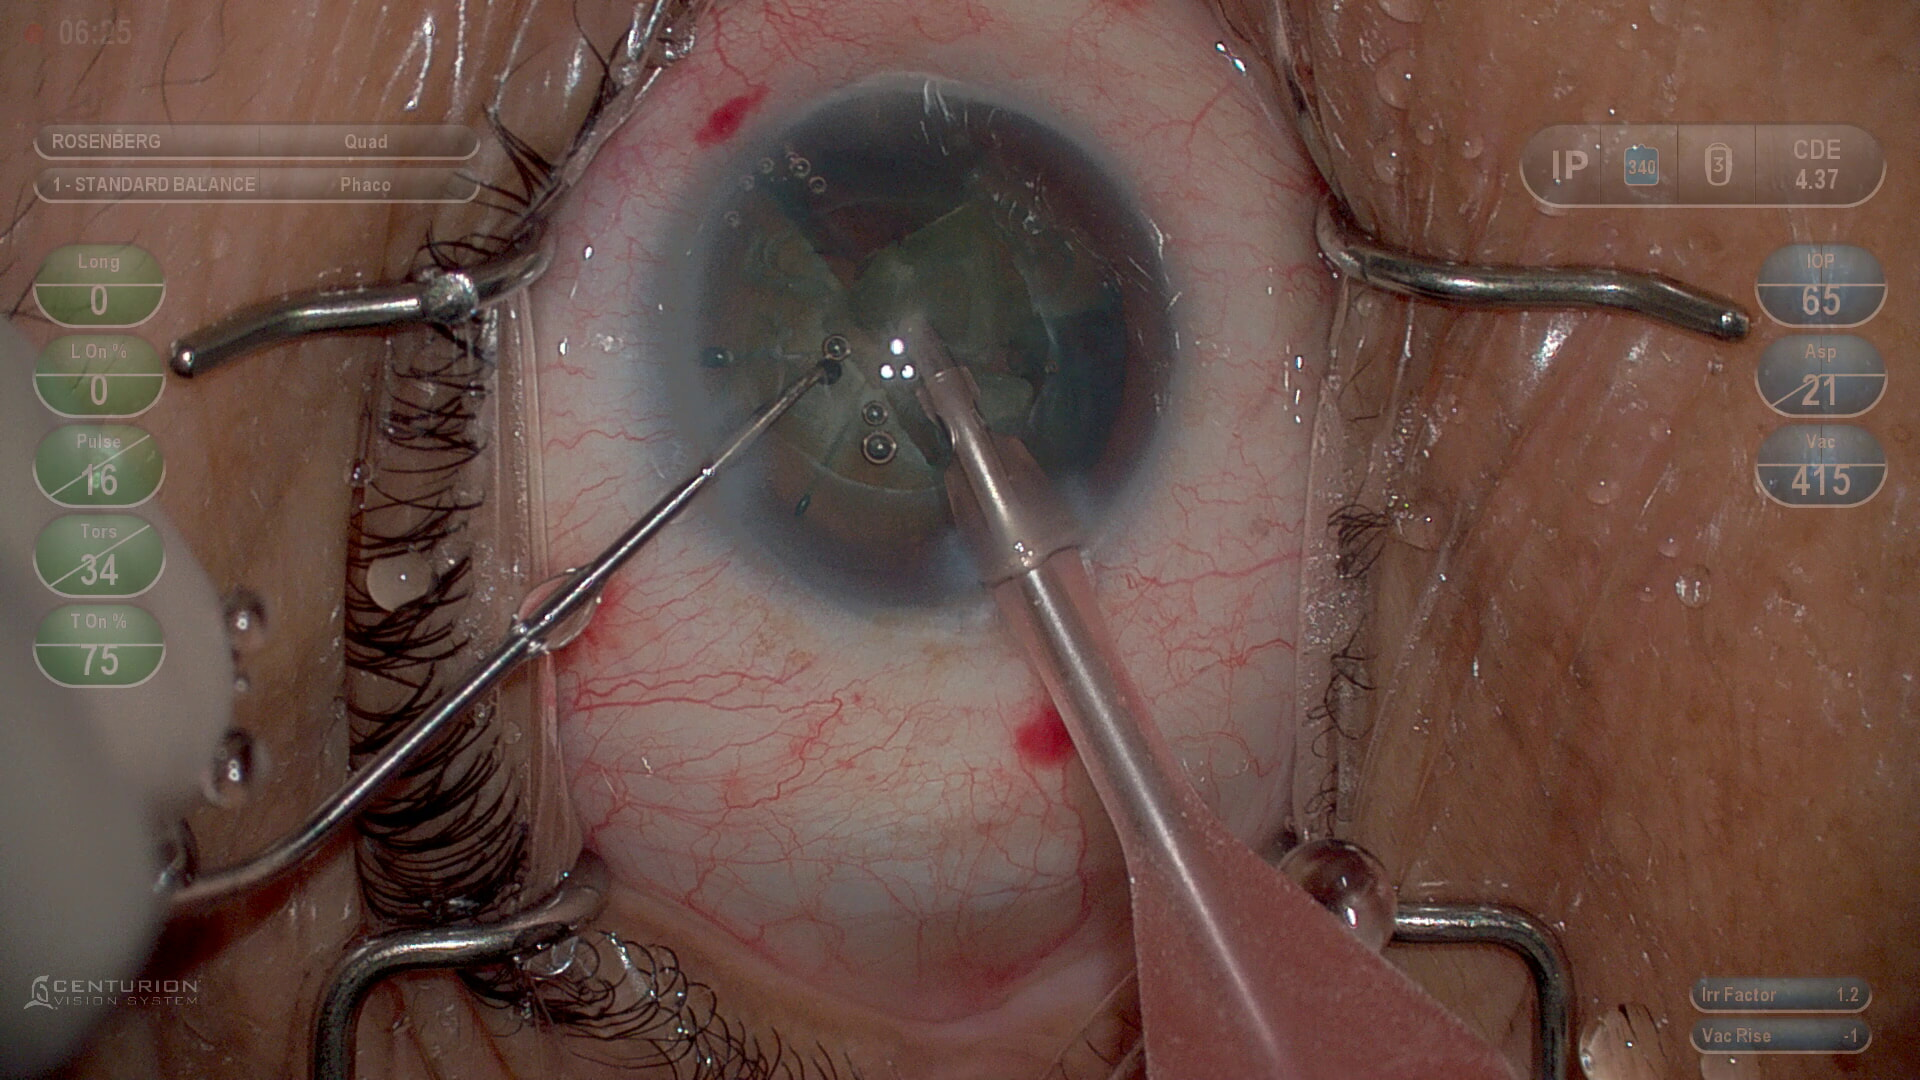iris: (662, 94, 1184, 594)
pupil: (715, 141, 1125, 543)
